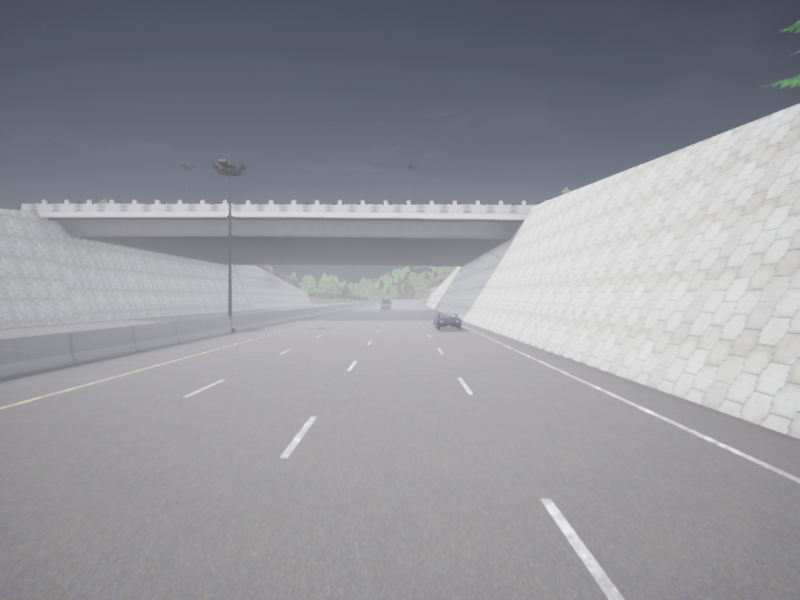vehicle: (433, 312, 461, 329), (381, 298, 391, 309)
